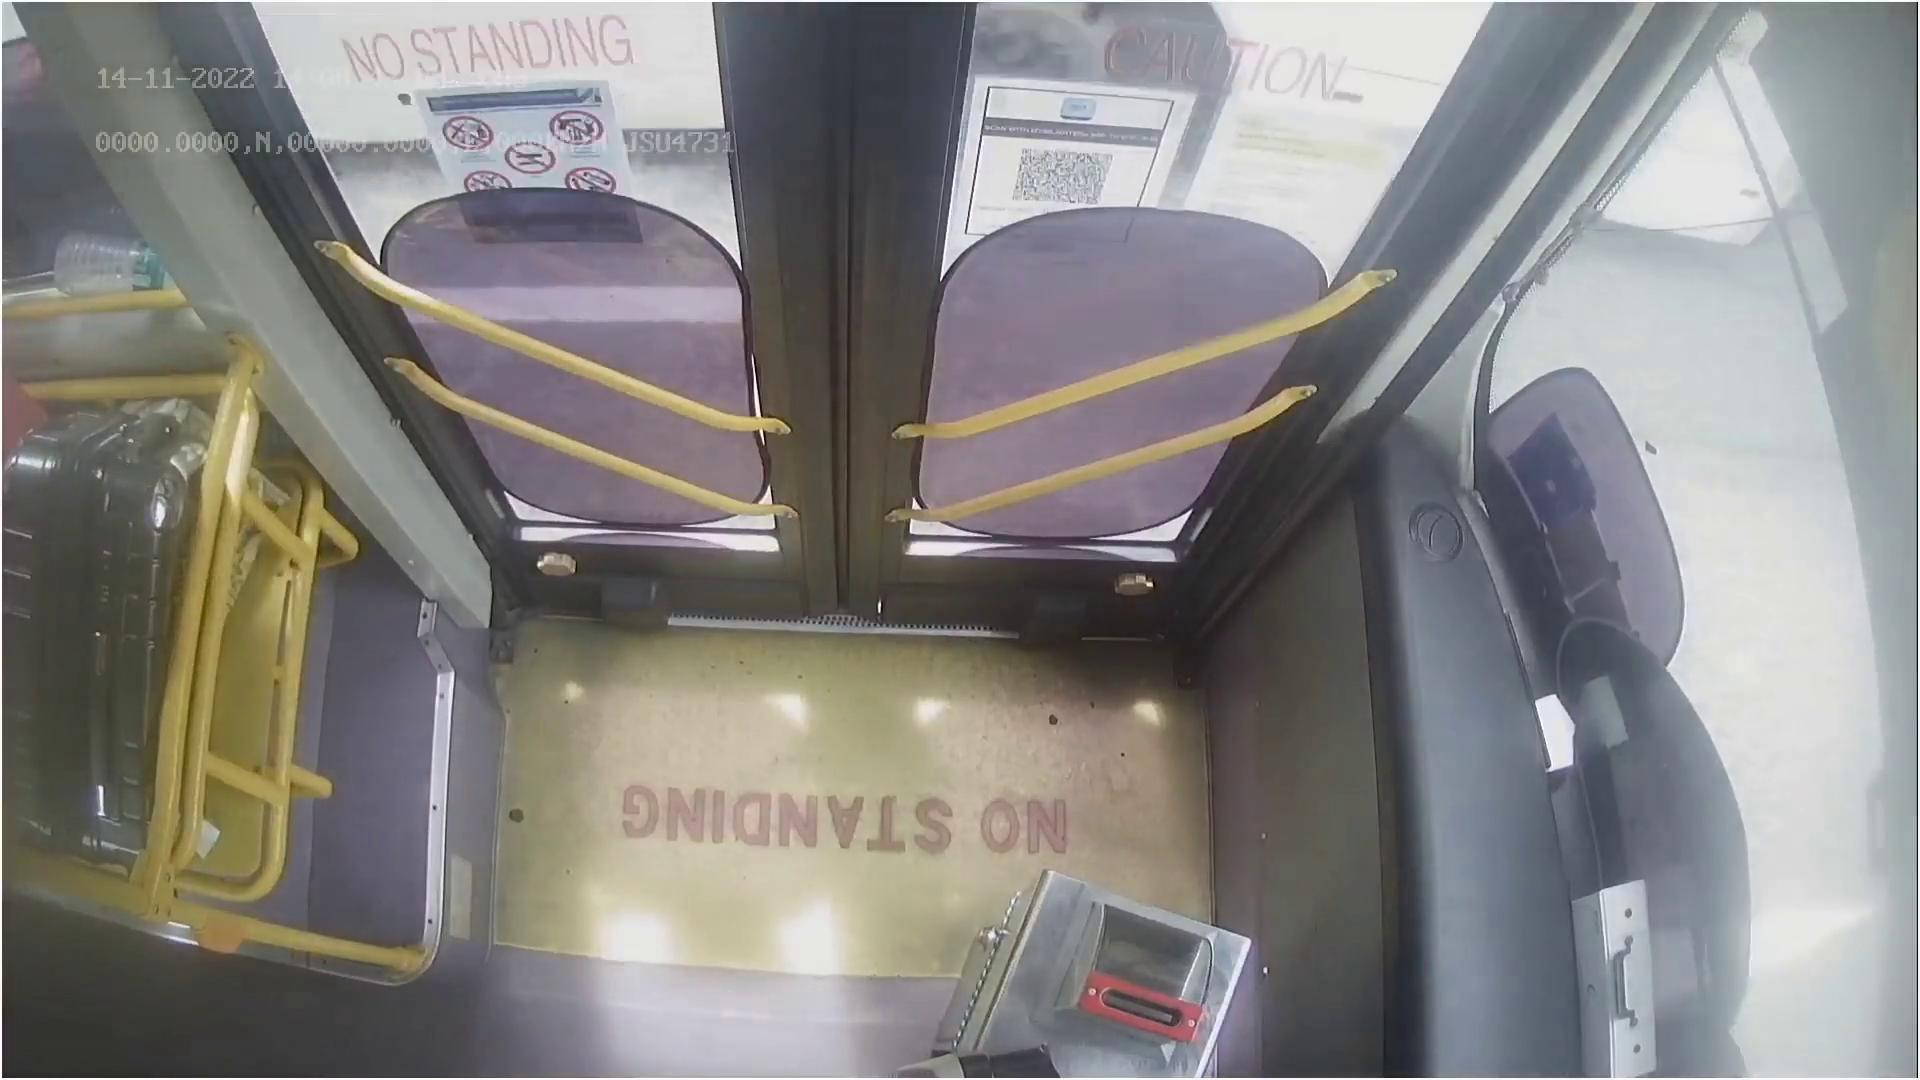close: (284, 0, 1448, 156)
